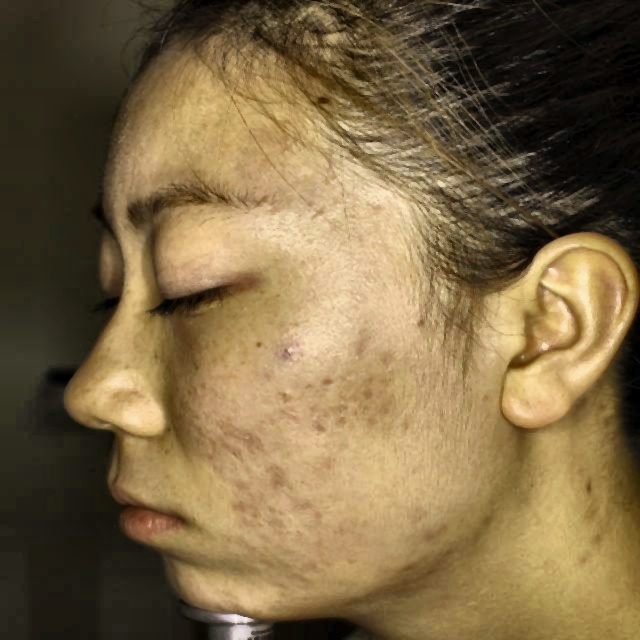comedone: (198, 435, 250, 471), (260, 460, 287, 500)
